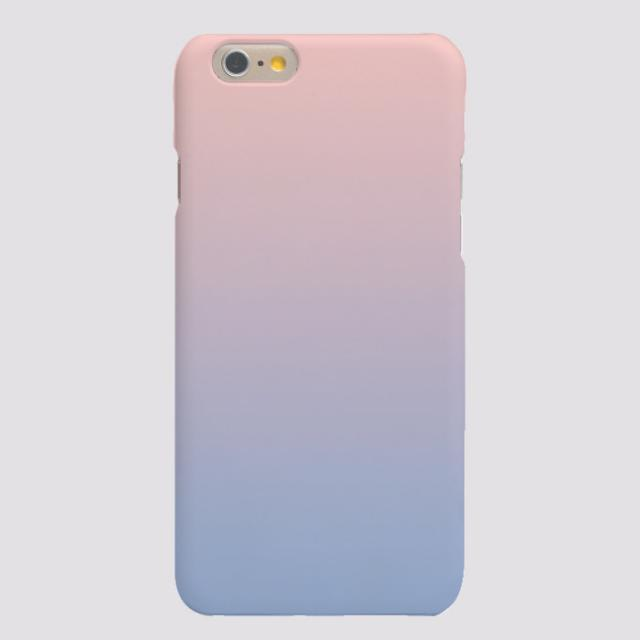phone: (171, 31, 467, 618)
